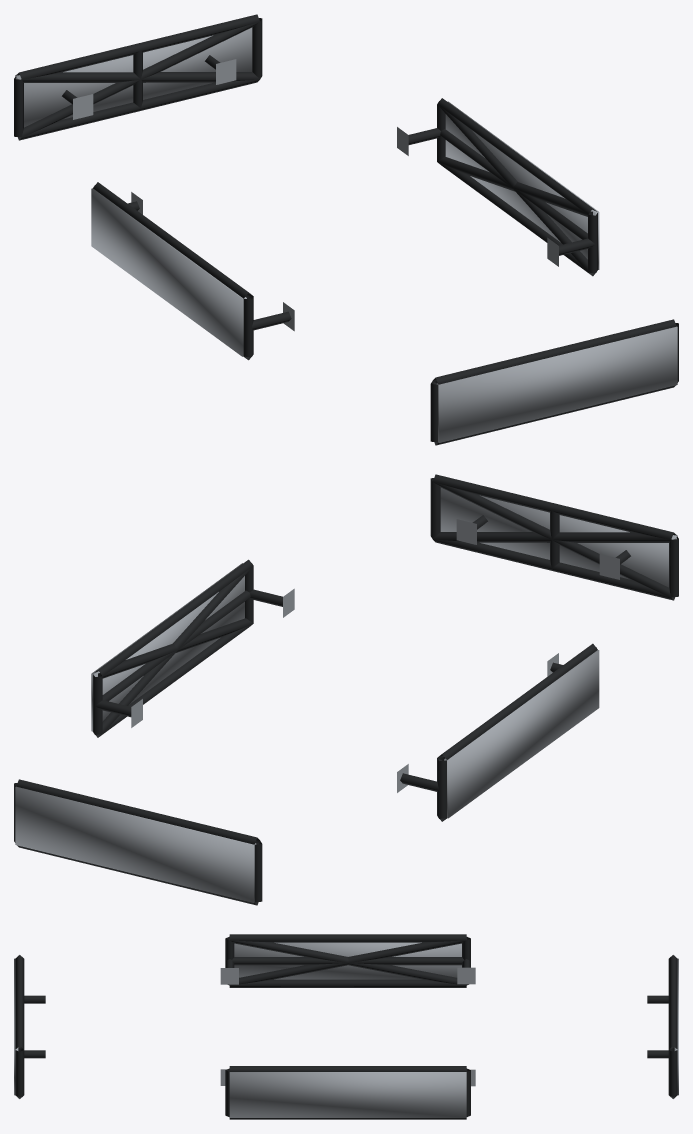
Rendered from ottavo_unoa_protecao.glb.
3 renders of one model, top to bottom at view 1: azimuth 30°, elevation 25°; view 2: azimuth 150°, elevation 25°; view 3: azimuth 270°, elevation 25°, orthographic. The views are drawn at different scales.
Visible parts, largest first — view 1: Protection_front_Level3_Details, Protection_left_Level3_Details, Protection_rear_Level1_Details, Protection_rear_Level3_Details, Protection_right_Level1_Details, Protection_rear_Level2_Details, Protection_right_Level2_Details, Protection_right_Level3_Details, Protection_front_Level1_Details, Protection_left_Level1_Details; view 2: Protection_rear_Level3_Details, Protection_left_Level3_Details, Protection_front_Level1_Details, Protection_front_Level3_Details, Protection_right_Level1_Details, Protection_front_Level2_Details, Protection_right_Level2_Details, Protection_right_Level3_Details, Protection_rear_Level1_Details, Protection_left_Level1_Details; view 3: Protection_right_Level3_Details, Protection_left_Level1_Details, Protection_left_Level2_Details, Protection_left_Level3_Details, Protection_right_Level1_Details, Protection_rear_Level1_Details, Protection_front_Level1_Details.
Part boxes in pixels (x1=…): Protection_front_Level3_Details: x1=436, y1=326, x2=677, y2=442; Protection_left_Level3_Details: x1=91, y1=188, x2=246, y2=356; Protection_rear_Level1_Details: x1=14, y1=14, x2=262, y2=140; Protection_rear_Level3_Details: x1=15, y1=27, x2=252, y2=127; Protection_right_Level1_Details: x1=397, y1=98, x2=597, y2=276; Protection_rear_Level2_Details: x1=16, y1=22, x2=259, y2=139; Protection_right_Level2_Details: x1=437, y1=105, x2=596, y2=275; Protection_right_Level3_Details: x1=445, y1=101, x2=599, y2=269; Protection_front_Level1_Details: x1=430, y1=319, x2=678, y2=445; Protection_left_Level1_Details: x1=93, y1=182, x2=294, y2=360; Protection_rear_Level3_Details: x1=15, y1=786, x2=256, y2=902; Protection_left_Level3_Details: x1=444, y1=650, x2=599, y2=818; Protection_front_Level1_Details: x1=430, y1=474, x2=678, y2=600; Protection_front_Level3_Details: x1=440, y1=487, x2=677, y2=587; Protection_right_Level1_Details: x1=93, y1=559, x2=294, y2=737; Protection_front_Level2_Details: x1=433, y1=482, x2=676, y2=599; Protection_right_Level2_Details: x1=93, y1=566, x2=253, y2=737; Protection_right_Level3_Details: x1=91, y1=563, x2=244, y2=731; Protection_rear_Level1_Details: x1=14, y1=779, x2=262, y2=905; Protection_left_Level1_Details: x1=397, y1=643, x2=597, y2=821; Protection_right_Level3_Details: x1=229, y1=1072, x2=466, y2=1117; Protection_left_Level1_Details: x1=220, y1=934, x2=475, y2=987; Protection_left_Level2_Details: x1=229, y1=938, x2=466, y2=985; Protection_left_Level3_Details: x1=234, y1=942, x2=461, y2=979; Protection_right_Level1_Details: x1=220, y1=1066, x2=475, y2=1119; Protection_rear_Level1_Details: x1=647, y1=955, x2=677, y2=1098; Protection_front_Level1_Details: x1=15, y1=955, x2=45, y2=1098.
Bounding box in the file's own units: 1.94 × 0.354 × 3.99.
1 material, 1 textured.
